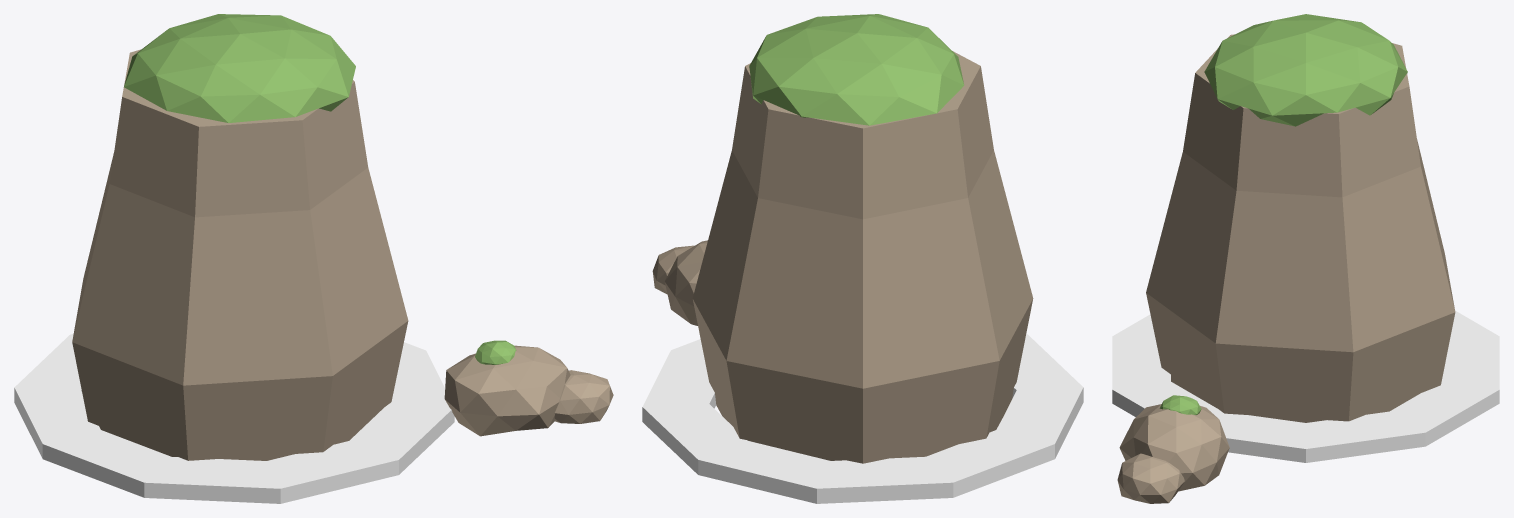
File: ocean-g1.glb
3 renders of one model, left to right at view 1: azimuth 30°, elevation 25°; view 2: azimuth 150°, elevation 25°; view 3: azimuth 270°, elevation 25°, orthographic. The views are drawn at different scales.
Parts seen in each view (by area): view 1: ocean-g1; view 2: ocean-g1; view 3: ocean-g1.
Boxes of the visible parts, x1=… form: ocean-g1: x1=14, y1=14, x2=613, y2=503; ocean-g1: x1=642, y1=14, x2=1083, y2=503; ocean-g1: x1=1112, y1=14, x2=1499, y2=503.
Size of the model in its own units: 1.65 by 1.24 by 1.26.
